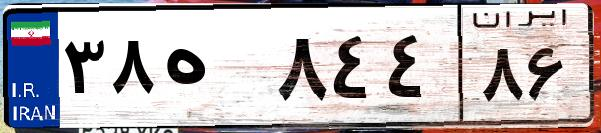3: (57, 26, 110, 100)
4: (385, 28, 445, 110), (330, 28, 385, 110)
6: (525, 38, 570, 115)
8: (270, 28, 330, 110), (475, 38, 525, 113), (110, 28, 158, 98)
ه: (158, 20, 270, 120)
